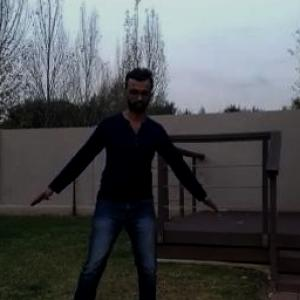land: (21, 64, 212, 299)
